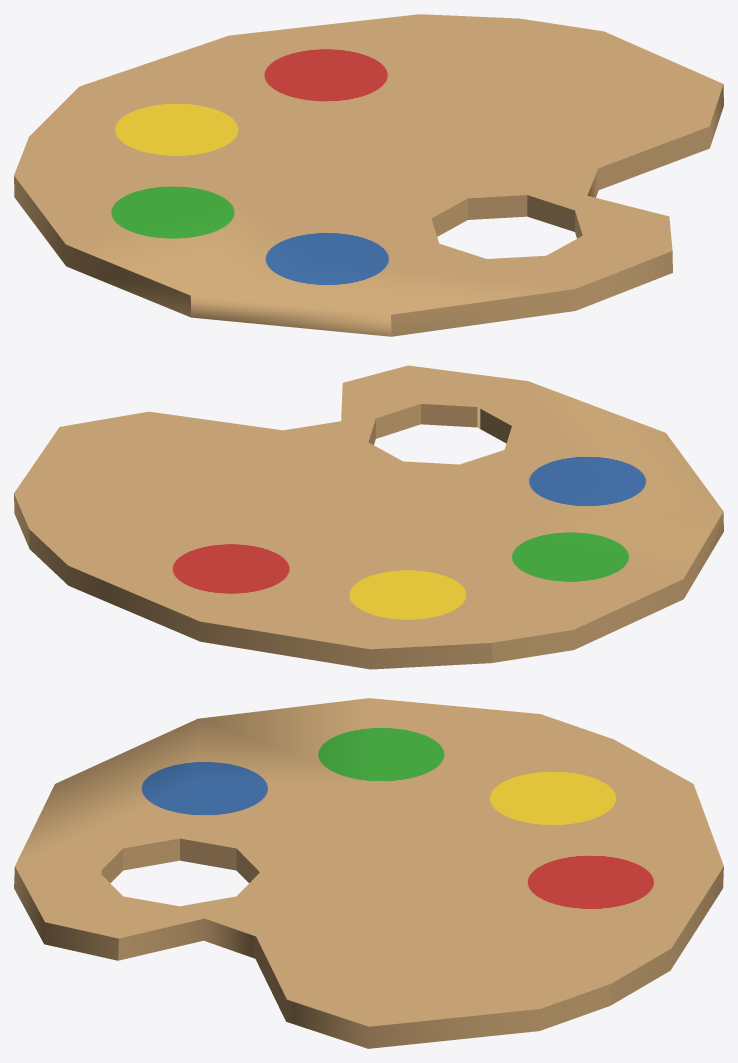
The model's file is paleta.fbx.
3 renders of one model, top to bottom at view 1: azimuth 30°, elevation 25°; view 2: azimuth 150°, elevation 25°; view 3: azimuth 270°, elevation 25°, orthographic. The views are drawn at different scales.
Parts seen in each view (by area): view 1: Box001; view 2: Box001; view 3: Box001.
Boxes of the visible parts, box(x1,y1,x2,y2) form: Box001: box(14, 14, 723, 336); Box001: box(14, 365, 723, 669); Box001: box(14, 698, 723, 1048).
Size of the model in its own units: 1662 by 52.15 by 1517.
Materials: 1 (1 with a texture image).
